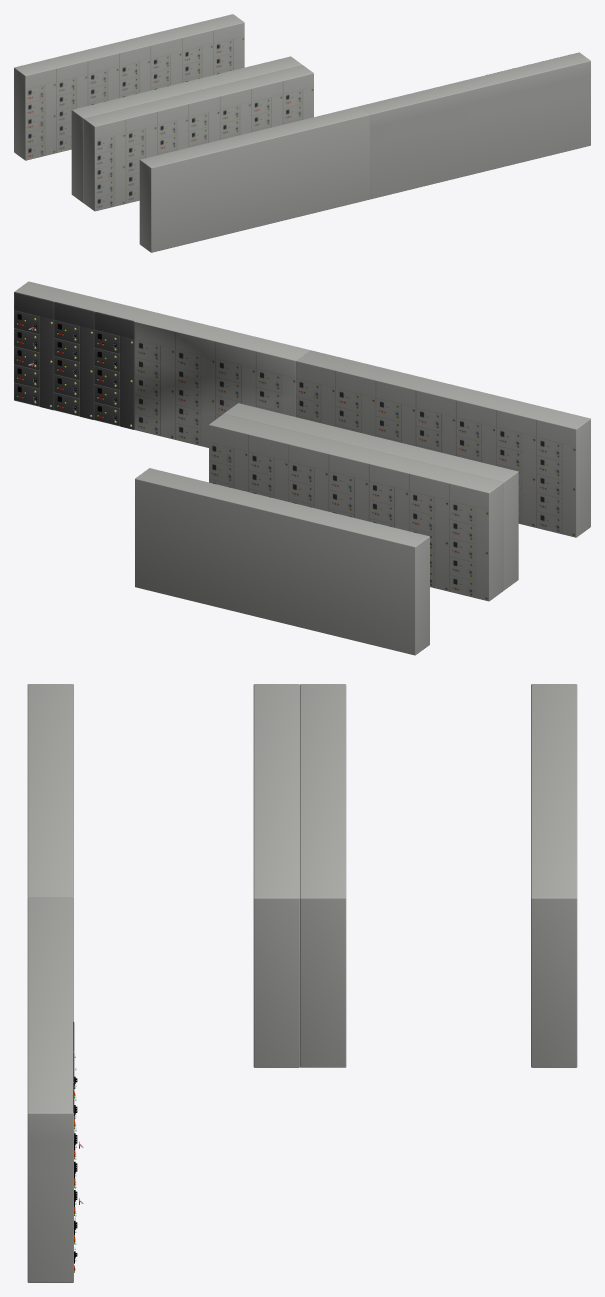
Rendered from LOTO panel.fbx.
3 renders of one model, top to bottom at view 1: azimuth 30°, elevation 25°; view 2: azimuth 150°, elevation 25°; view 3: azimuth 270°, elevation 25°, orthographic. The views are drawn at different scales.
Parts seen in each view (by area): view 1: Cube.009, Cube.010, Cube.027, Cube.007, Cube.008; view 2: Cube.027, Cube.008, Cube.009, Cube.010, Cube.011, Cube.007, Cube.018; view 3: Cube.010, Cube.007, Cube.008, Cube.027, Cube.009.
Boxes of the visible parts, <box> form: Cube.009: <box>139,106,370,252</box>; Cube.010: <box>359,52,590,199</box>; Cube.027: <box>14,14,244,160</box>; Cube.007: <box>83,65,313,211</box>; Cube.008: <box>71,56,301,202</box>; Cube.027: <box>135,468,429,655</box>; Cube.008: <box>209,414,503,601</box>; Cube.009: <box>296,350,590,537</box>; Cube.010: <box>14,281,310,447</box>; Cube.011: <box>14,292,134,429</box>; Cube.007: <box>224,403,518,590</box>; Cube.018: <box>14,328,39,352</box>; Cube.010: <box>27,897,73,1282</box>; Cube.007: <box>253,684,299,1067</box>; Cube.008: <box>300,684,346,1067</box>; Cube.027: <box>531,684,577,1067</box>; Cube.009: <box>27,684,73,897</box>.
Bounding box in the file's own units: 2249 × 416 × 1217.
Materials: 16 (3 with a texture image).
